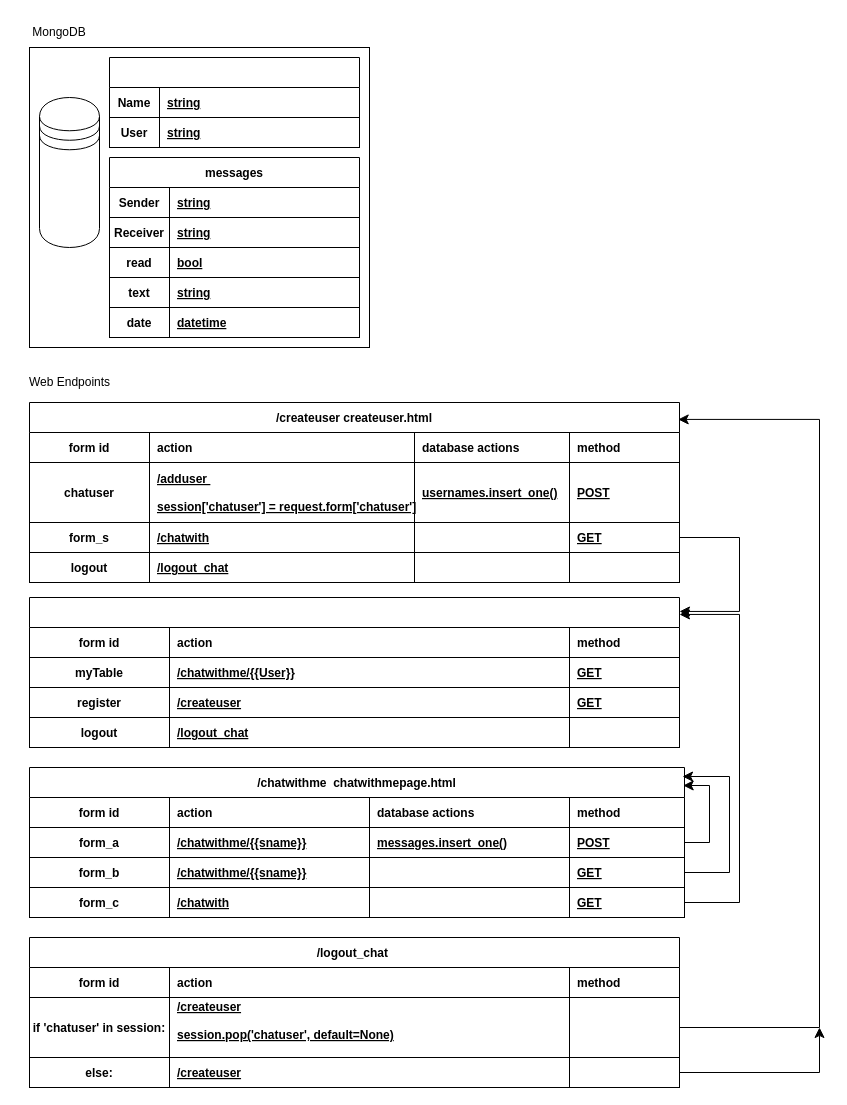
This 847x1105 diagram has some shape labels left out. The shapes that lost their labels are listed below. From the top down, each one's box as (x1, y1, x2, y2) in pixels, then its label:
(108, 56, 360, 148): usernames
(28, 596, 680, 748): /chatwith chatwith.html
